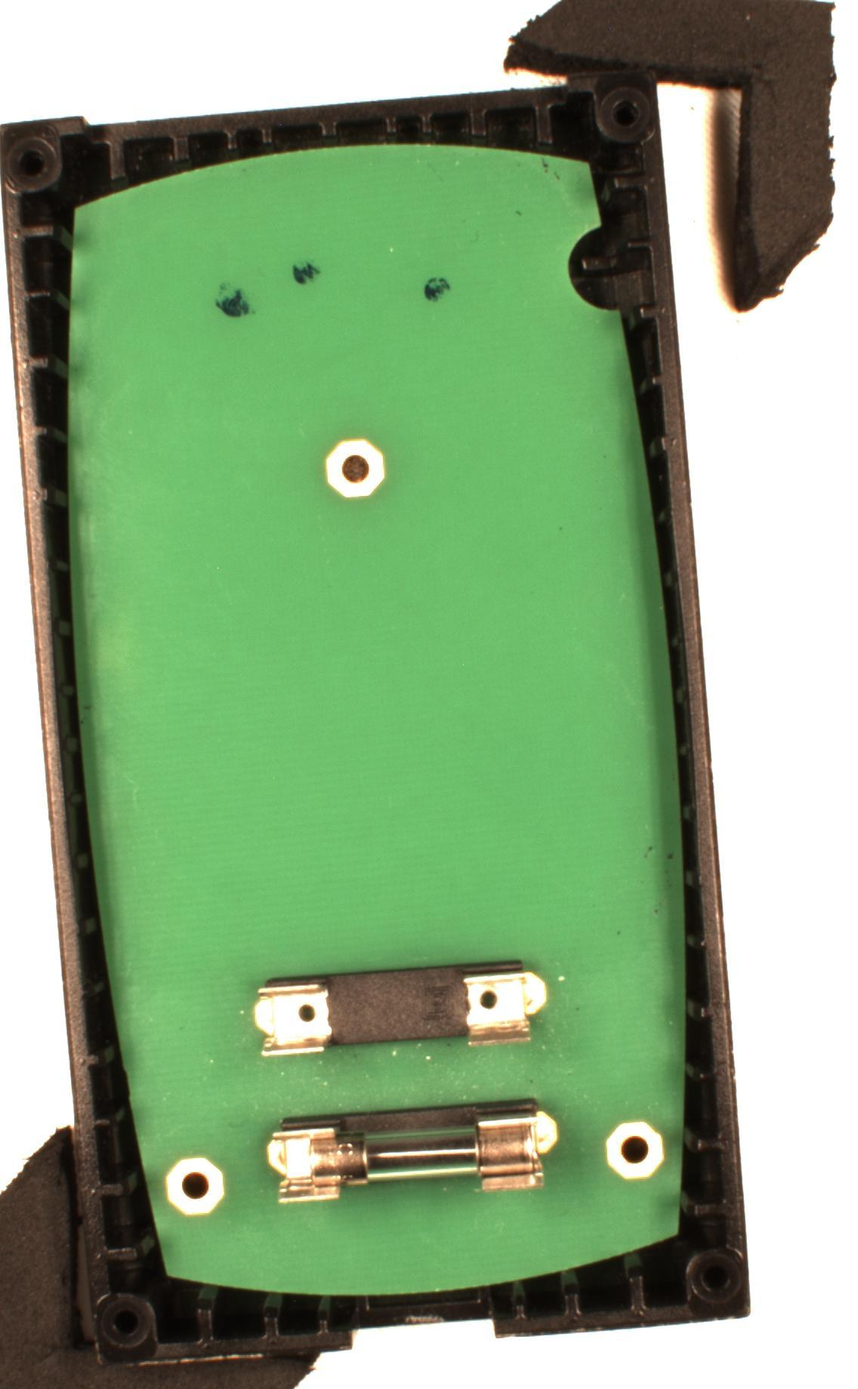Nepostojanje osiguraca: (251, 958, 549, 1059)
Tockasto Ostecenje: (214, 283, 258, 320), (423, 275, 452, 303), (291, 260, 323, 285)
